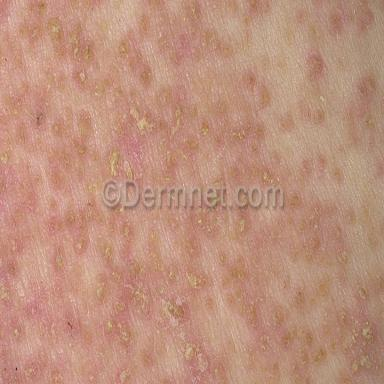Darier_s-Disease: (0, 0, 384, 379)
